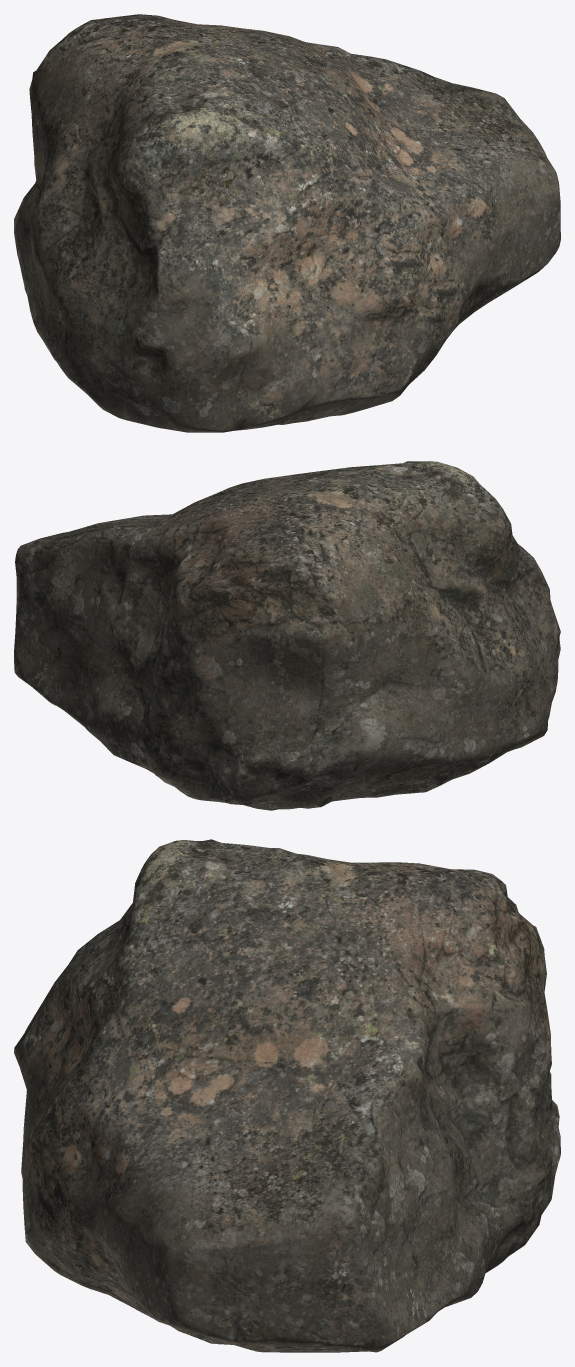
Rendered from vivvbfhaw_tier_2.gltf.
3 views of the same model, one above another, from view 1: azimuth 30°, elevation 25°; view 2: azimuth 150°, elevation 25°; view 3: azimuth 270°, elevation 25° (orthographic). The views are drawn at different scales.
Visible parts, largest first — view 1: vivvbfhaw_LOD0_TIER2_000; view 2: vivvbfhaw_LOD0_TIER2_000; view 3: vivvbfhaw_LOD0_TIER2_000.
Boxes of the visible parts, <box> form: vivvbfhaw_LOD0_TIER2_000: <box>14,14,560,432</box>; vivvbfhaw_LOD0_TIER2_000: <box>14,461,560,810</box>; vivvbfhaw_LOD0_TIER2_000: <box>14,839,560,1352</box>.
Size of the model in its own units: 2.11 by 1.31 by 1.69.
1 material, 1 textured.
